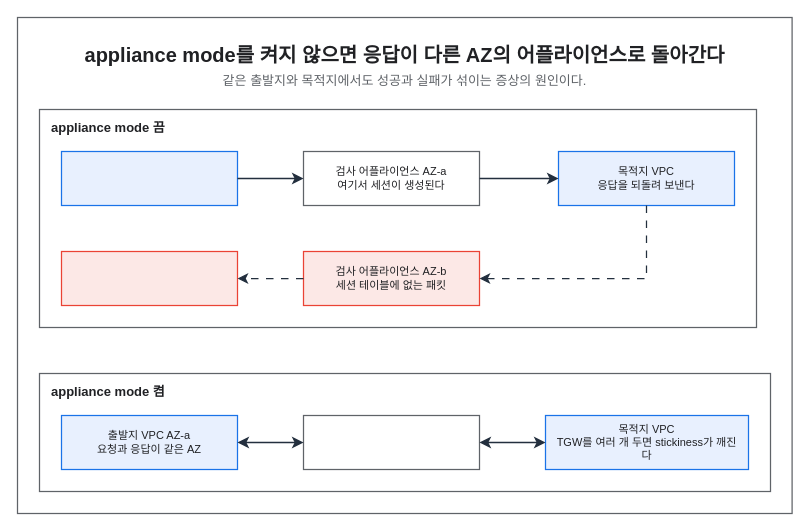
Image size: 810x532. Some labels were removed from this diagram. The shapes that lost their labels are listed below. From the top down, each one's centre as x and y in pixels, then its label:
At point 149,178: "출발지 VPC AZ-a 요청 방향".
At point 149,278: "드롭 같은 조합인데 성공과 실패가 섞인다".
At point 391,442: "검사 어플라이언스 AZ-a flow 전체가 같은 AZ로 고정된다".
